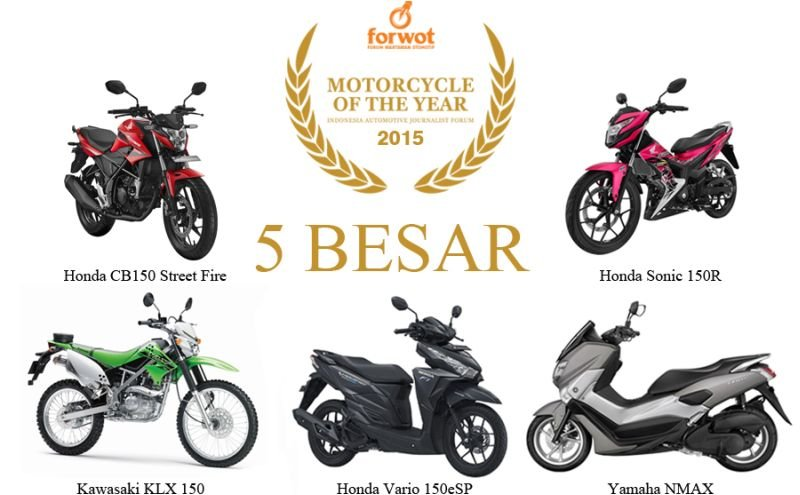motor: (526, 295, 783, 474), (38, 294, 269, 475), (294, 310, 495, 479), (562, 88, 746, 256), (53, 108, 233, 272)
